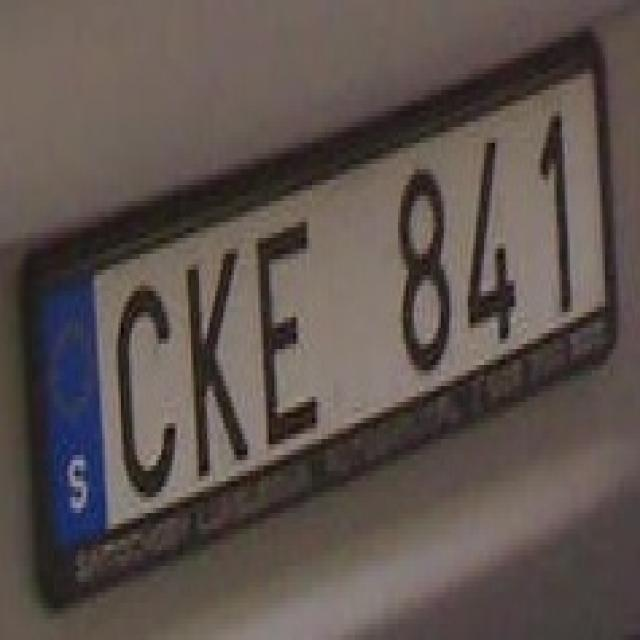LicensePlate: (21, 47, 616, 560)
